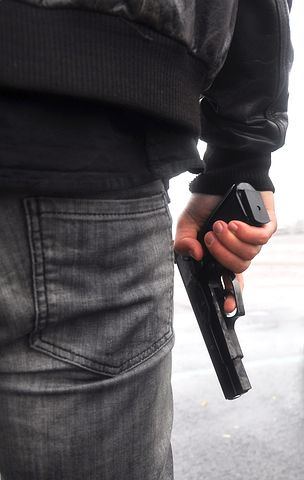gun: (182, 179, 272, 401)
